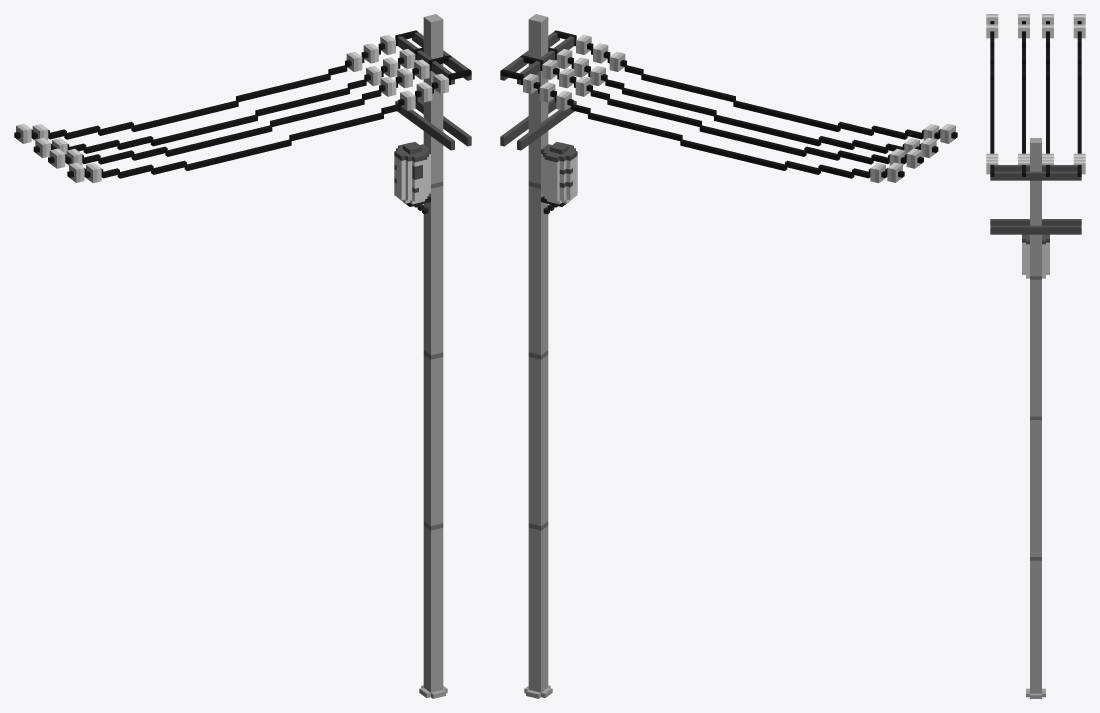
The model's file is poleFour.glb.
The picture shows the model from 3 angles, left to right: view 1: azimuth 30°, elevation 25°; view 2: azimuth 150°, elevation 25°; view 3: azimuth 270°, elevation 25°; orthographic projection. The views are drawn at different scales.
Visible parts, largest first — view 1: ObjObject; view 2: ObjObject; view 3: ObjObject.
Boxes of the visible parts, box(x1,y1,x2,y2) form: ObjObject: box(14, 14, 471, 698); ObjObject: box(500, 14, 957, 698); ObjObject: box(986, 14, 1085, 698).
Size of the model in its own units: 9.6 by 15.4 by 2.5.
Materials: 1 (1 with a texture image).
